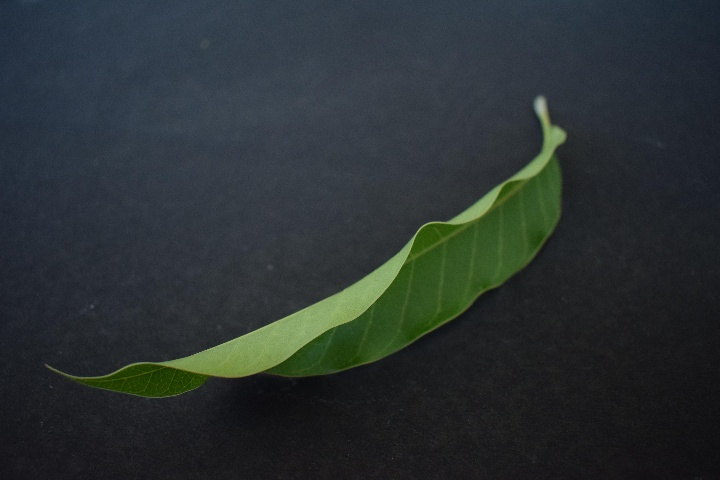healthy: (46, 120, 590, 406)
